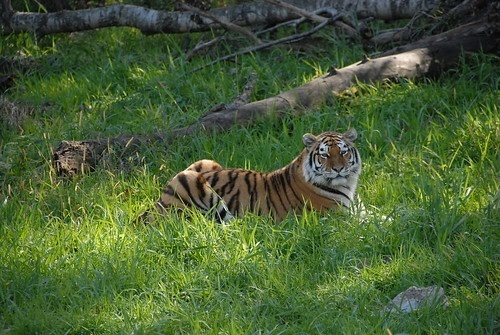tigre: (128, 126, 400, 231)
